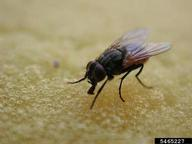Fruit fly: (72, 29, 163, 102)
